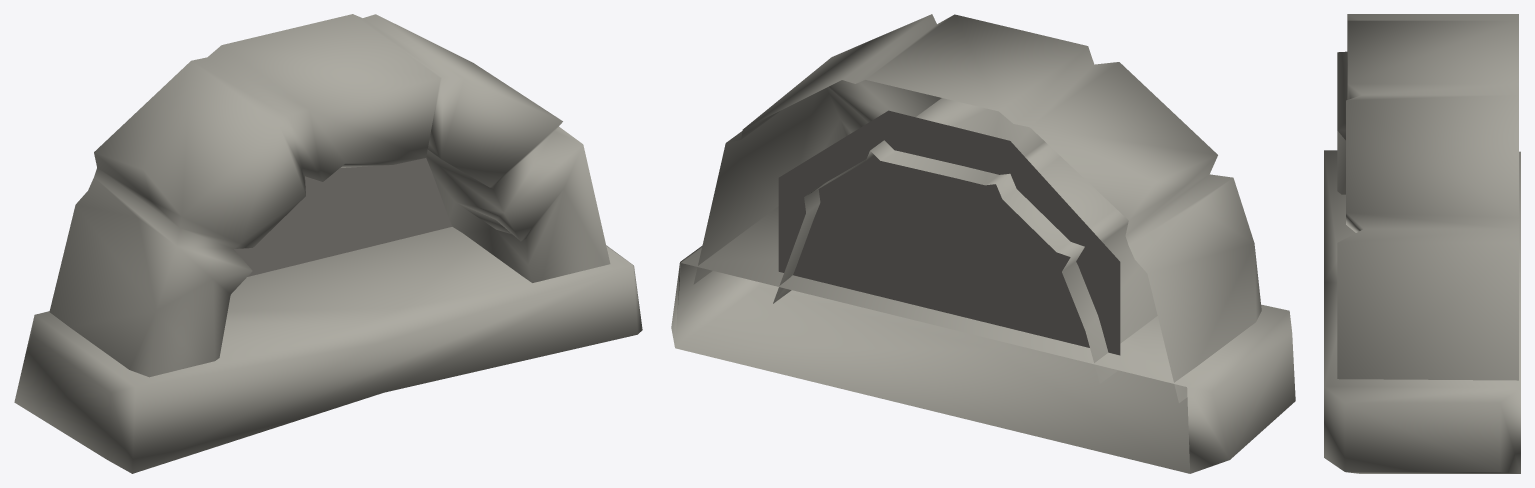
The model's file is rpgpp_ag_stove_small_01.fbx.
The picture shows the model from 3 angles, left to right: view 1: azimuth 30°, elevation 25°; view 2: azimuth 150°, elevation 25°; view 3: azimuth 270°, elevation 25°; orthographic projection. The views are drawn at different scales.
Parts seen in each view (by area): view 1: rpgpp_ag_stove_small_01; view 2: rpgpp_ag_stove_small_01; view 3: rpgpp_ag_stove_small_01.
Part boxes in pixels (x1,y1,x2,y2): rpgpp_ag_stove_small_01: (14,14,642,473); rpgpp_ag_stove_small_01: (671,14,1295,473); rpgpp_ag_stove_small_01: (1324,14,1520,473).
Size of the model in its own units: 1.35 by 0.7295 by 0.4306.
